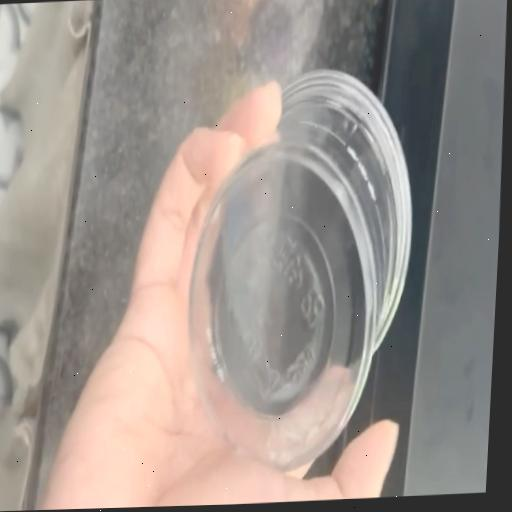ly_nhua: (189, 71, 411, 470)
